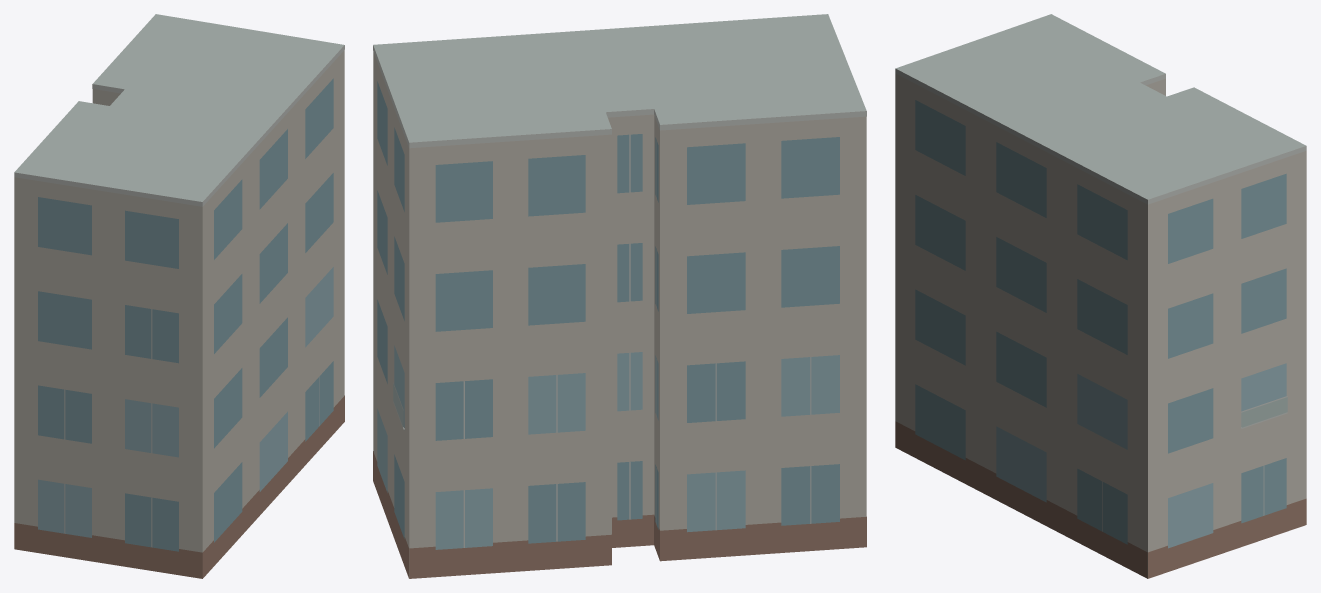
File: survey-upis-32693933.glb
3 renders of one model, left to right at view 1: azimuth 30°, elevation 25°; view 2: azimuth 150°, elevation 25°; view 3: azimuth 270°, elevation 25°, orthographic. The views are drawn at different scales.
Parts seen in each view (by area): view 1: survey-upis-32693933.tmp; view 2: survey-upis-32693933.tmp; view 3: survey-upis-32693933.tmp.
Part boxes in pixels (x1=…): survey-upis-32693933.tmp: x1=14, y1=14, x2=344, y2=578; survey-upis-32693933.tmp: x1=373, y1=14, x2=866, y2=578; survey-upis-32693933.tmp: x1=895, y1=14, x2=1306, y2=578.
Bounding box in the file's own units: 20.03 × 19.05 × 18.74.
